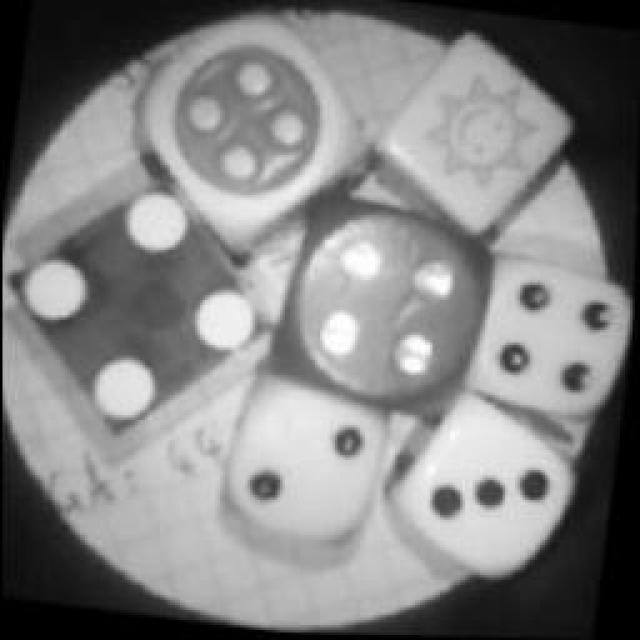dice_2: (211, 381, 399, 561)
dice_3: (381, 386, 591, 584)
dice_4: (0, 168, 295, 462), (111, 5, 389, 275), (254, 184, 518, 424), (457, 249, 635, 429)
